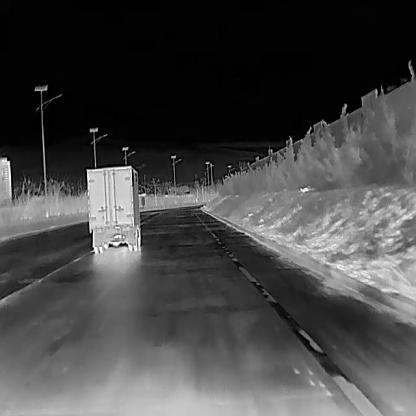car: (85, 164, 144, 253)
